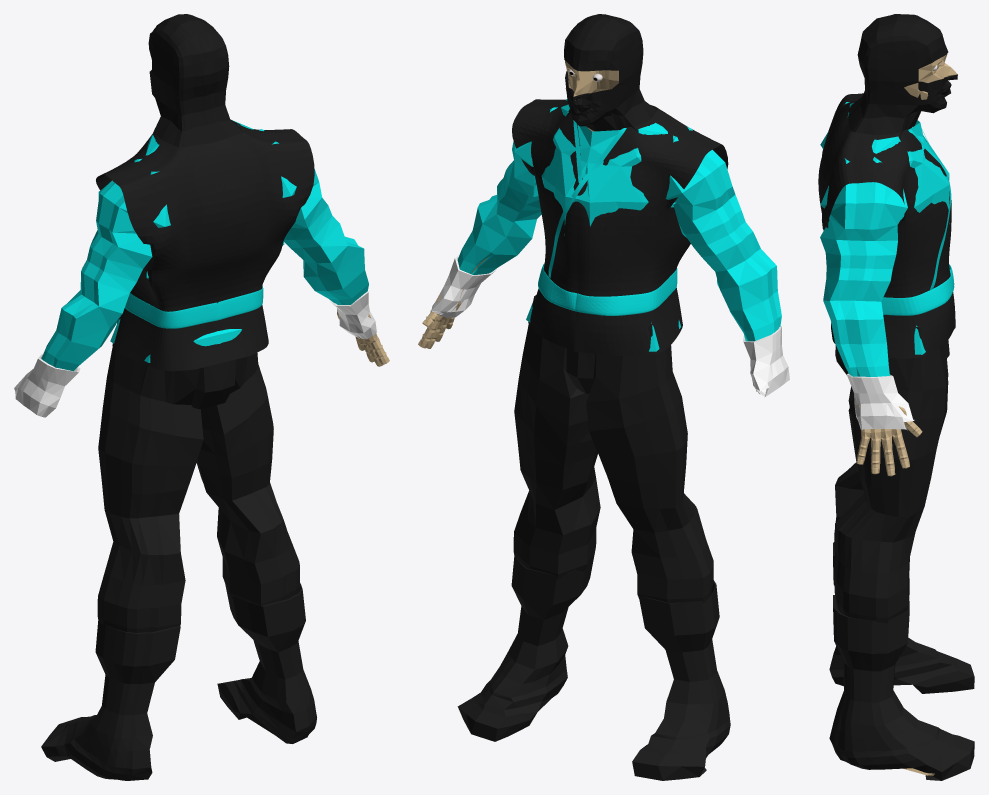
Rendered from Male Character Base (Clothed).dae.
3 renders of one model, left to right at view 1: azimuth 30°, elevation 25°; view 2: azimuth 150°, elevation 25°; view 3: azimuth 270°, elevation 25°, orthographic. The views are drawn at different scales.
Visible parts, largest first — view 1: Lower_Clothing, Torso_Outer_Clothing, Footwear, Torso_Clothing, Mask, Hand_Wrap, Character; view 2: Lower_Clothing, Torso_Outer_Clothing, Footwear, Torso_Clothing, Mask, Hand_Wrap, Character; view 3: Lower_Clothing, Footwear, Torso_Outer_Clothing, Torso_Clothing, Mask, Character, Hand_Wrap.
Boxes of the visible parts, x1,y1,x2,y2 form: Lower_Clothing: (97, 316, 299, 632); Torso_Outer_Clothing: (96, 120, 314, 371); Footwear: (41, 583, 316, 780); Torso_Clothing: (41, 120, 368, 371); Mask: (148, 14, 243, 147); Hand_Wrap: (14, 289, 376, 417); Character: (337, 310, 389, 366); Lower_Clothing: (513, 295, 713, 603); Torso_Outer_Clothing: (512, 99, 728, 355); Footwear: (457, 548, 730, 780); Torso_Clothing: (457, 99, 781, 351); Mask: (564, 14, 656, 131); Hand_Wrap: (431, 255, 789, 397); Character: (418, 60, 618, 348); Lower_Clothing: (834, 326, 949, 623); Footwear: (829, 542, 974, 780); Torso_Outer_Clothing: (818, 93, 955, 358); Torso_Clothing: (820, 102, 949, 376); Mask: (848, 14, 957, 139); Character: (856, 53, 957, 775); Hand_Wrap: (846, 373, 914, 430).
Bounding box in the file's own units: 9.05 × 3.51 × 17.52.
